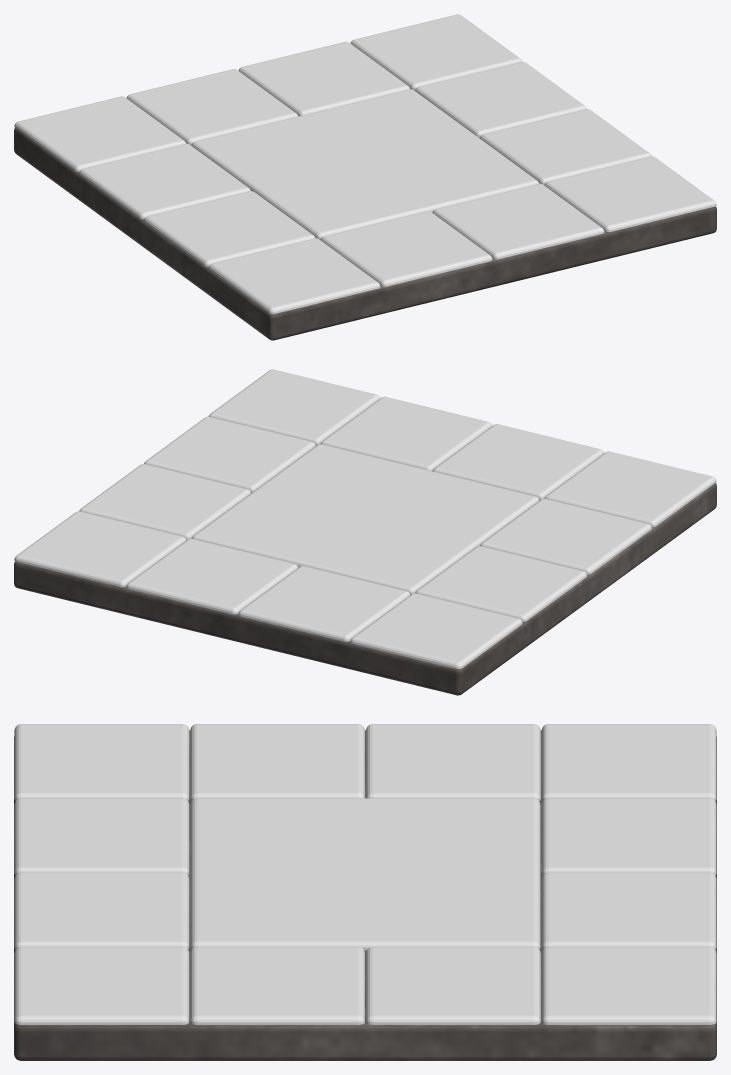
The model's file is SK7 CEILING SMALL.fbx.
3 views of the same model, one above another, from view 1: azimuth 30°, elevation 25°; view 2: azimuth 150°, elevation 25°; view 3: azimuth 270°, elevation 25° (orthographic). The views are drawn at different scales.
Visible parts, largest first — view 1: SK7 CEILING SMALL; view 2: SK7 CEILING SMALL; view 3: SK7 CEILING SMALL.
Boxes of the visible parts, x1,y1,x2,y2 form: SK7 CEILING SMALL: (14,14,716,340); SK7 CEILING SMALL: (14,369,716,695); SK7 CEILING SMALL: (14,724,716,1060).
Bounding box in the file's own units: 200 × 13.93 × 200.
